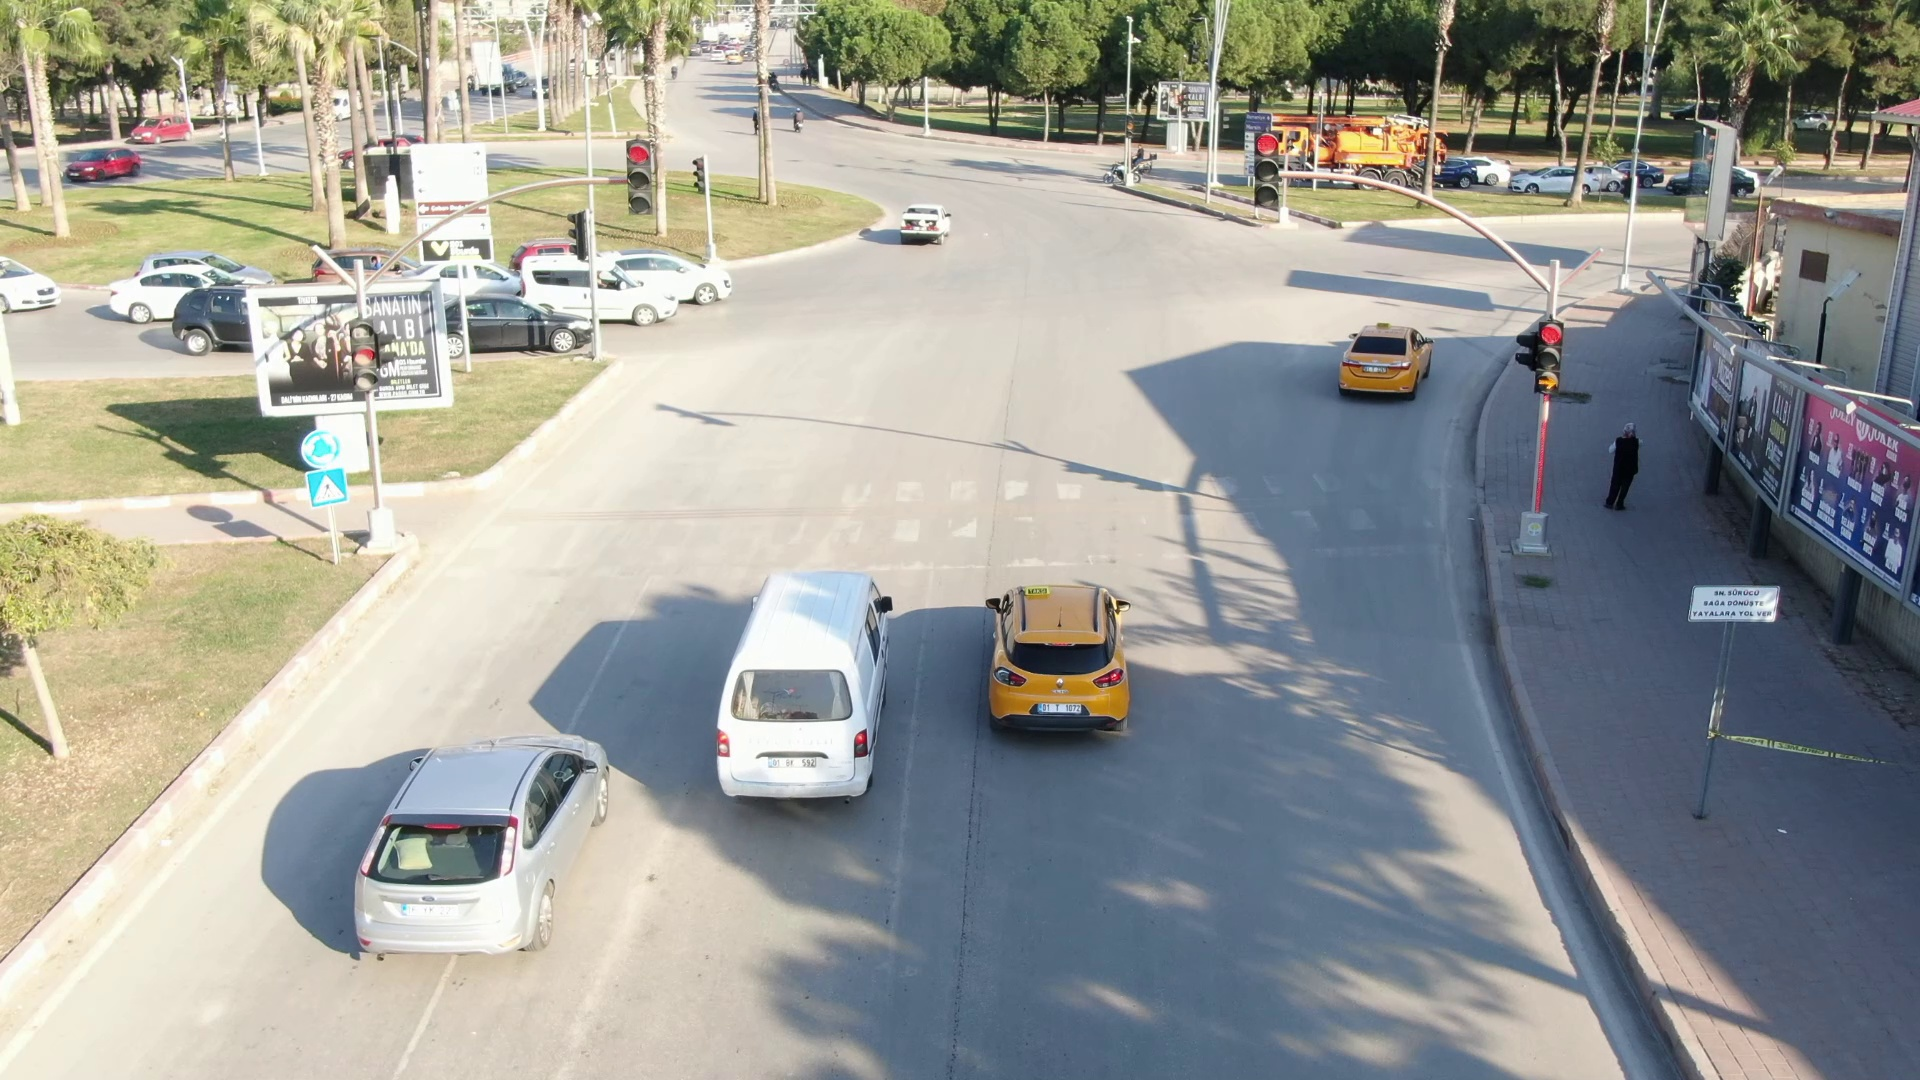car: (349, 731, 612, 963), (715, 574, 892, 800), (984, 584, 1143, 733), (508, 247, 676, 319), (453, 294, 621, 359), (614, 241, 741, 310), (1339, 323, 1431, 400), (108, 270, 263, 315), (163, 280, 253, 351), (431, 245, 512, 288), (319, 249, 414, 276), (61, 141, 139, 172), (902, 206, 945, 239)
person: (1602, 421, 1643, 517)
